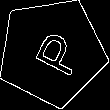P_NW: (22, 25, 83, 80)
